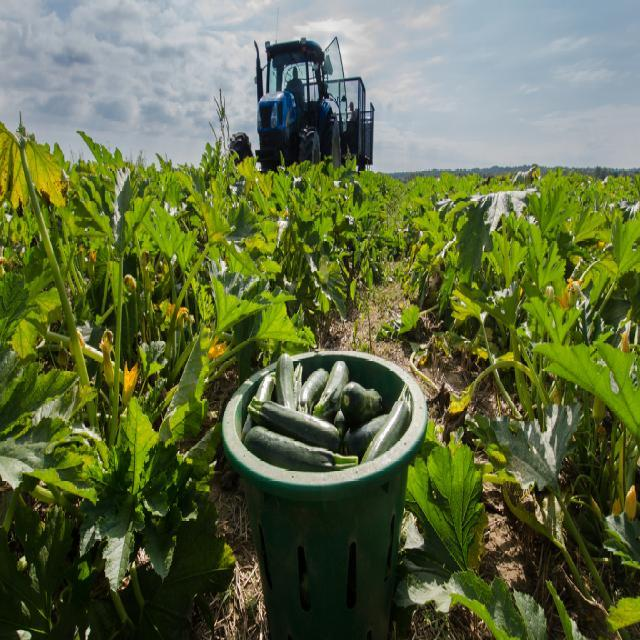Zucchini: (236, 352, 414, 476), (247, 386, 345, 452)
